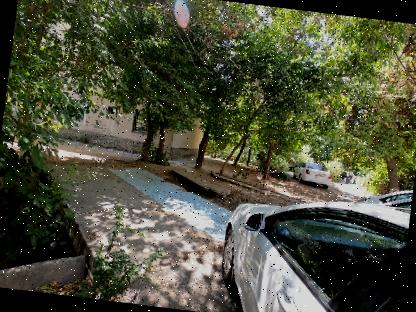car: (209, 176, 412, 312)
